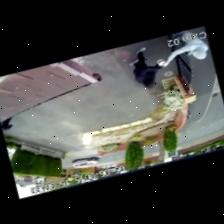person: (162, 30, 207, 65), (129, 47, 160, 88), (0, 116, 11, 129)
